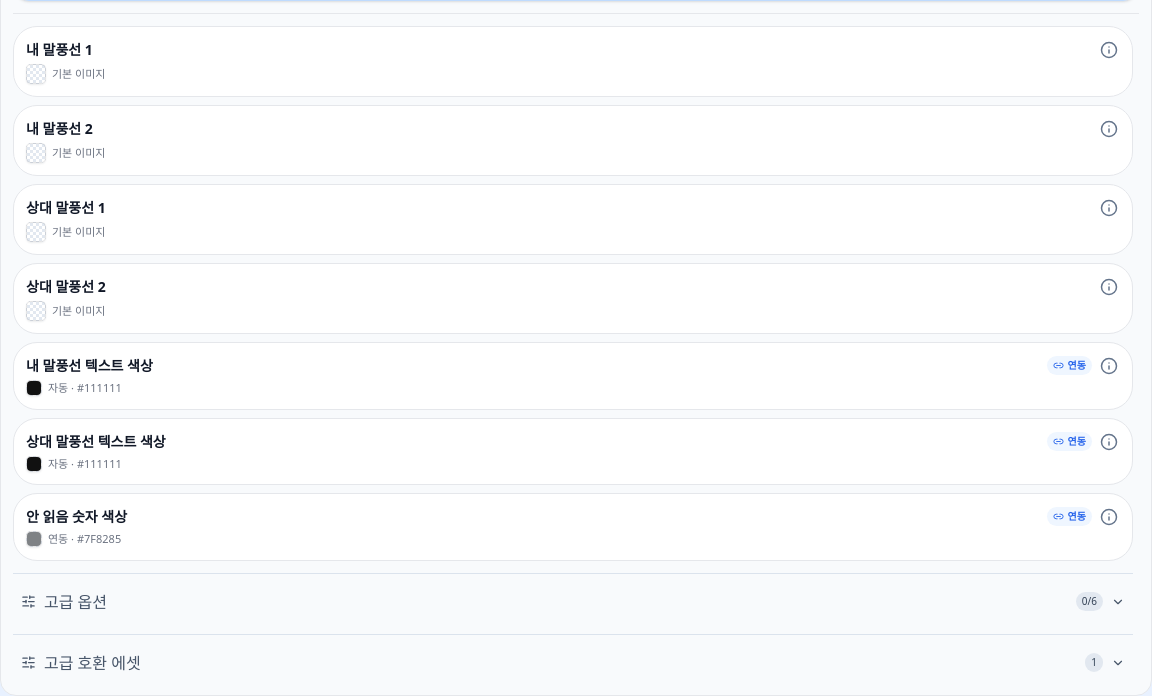
Test: ProjectGroupRail › 호환 에셋은 기본 목록과 분리해 사용자가 열었을 때만 보인다
This screenshot has width=1152, height=696.
(page scrolled)
Expected: the text "호환 테스트 에셋" is not shown
Click the button "고급 호환 에셋 1". click: (92, 662)
box: [13,642,1133,682]
(page scrolled)
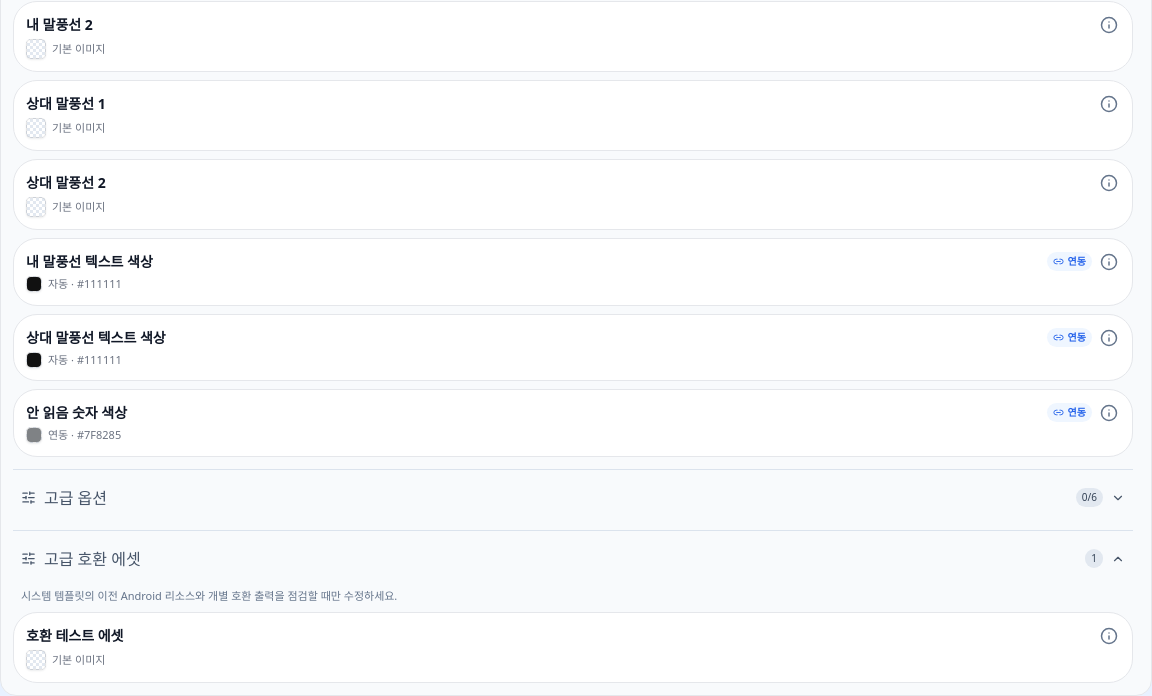
Now the text "호환 테스트 에셋" is shown, box [26,626,124,645]
